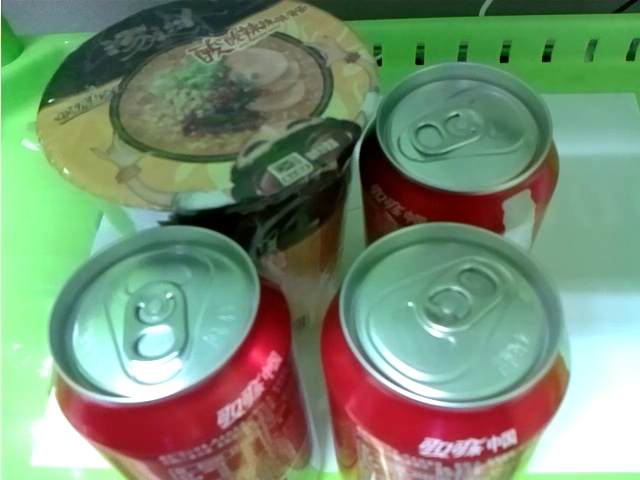cocacola: (45, 225, 314, 480), (316, 220, 574, 479), (352, 60, 561, 249)
noodles: (33, 2, 377, 285)
